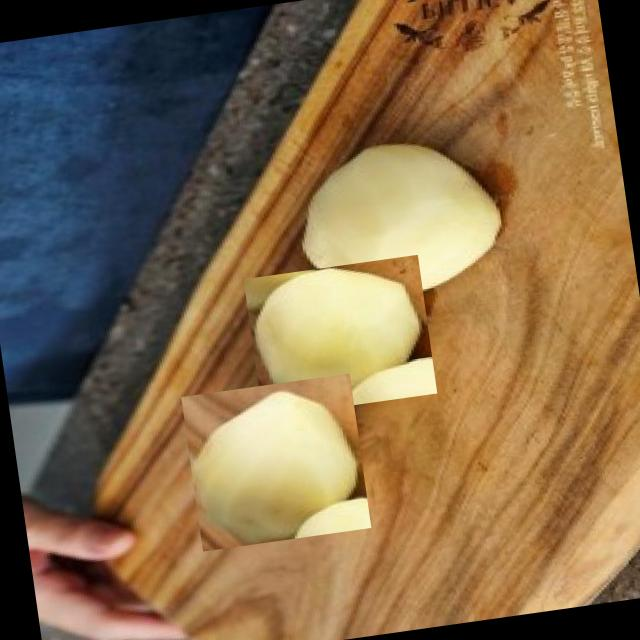Potato: (284, 130, 509, 308), (182, 372, 372, 550), (243, 254, 438, 417)
